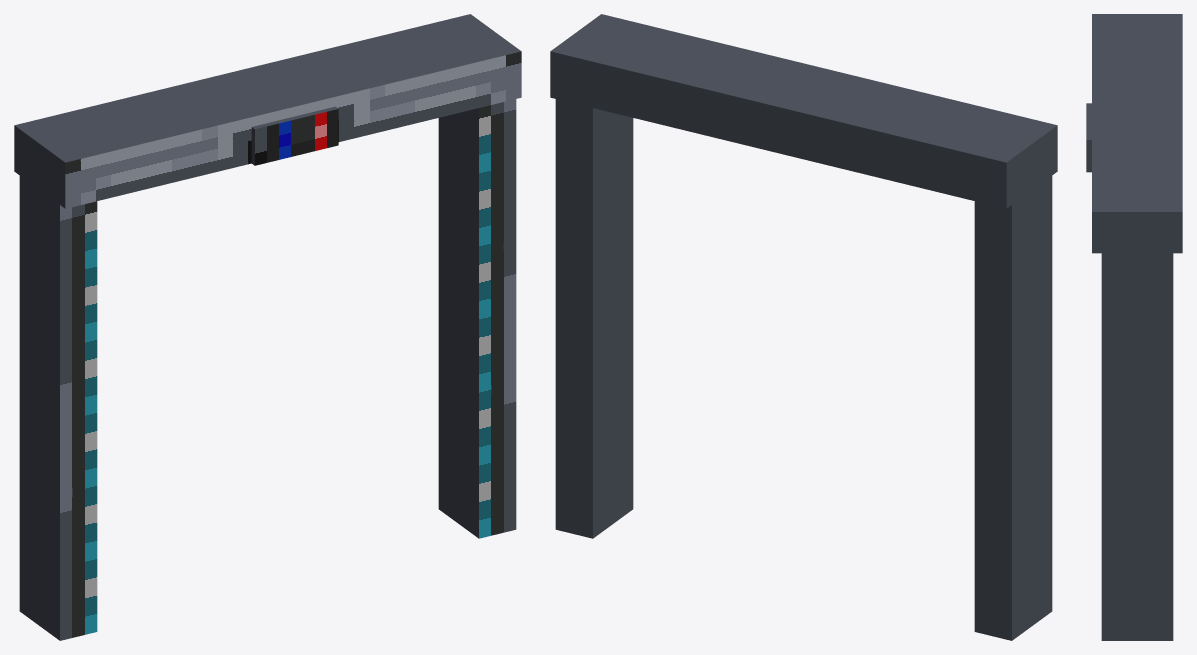
Rendered from weapon_scanner_gate.glb.
3 renders of one model, left to right at view 1: azimuth 30°, elevation 25°; view 2: azimuth 150°, elevation 25°; view 3: azimuth 270°, elevation 25°, orthographic. The views are drawn at different scales.
Visible parts, largest first — view 1: Scanner_Arch, Service_Hatch; view 2: Scanner_Arch; view 3: Scanner_Arch, Service_Hatch.
Part boxes in pixels (<box>): Scanner_Arch: <box>14,14,521,640</box>; Service_Hatch: <box>251,106,338,165</box>; Scanner_Arch: <box>550,14,1057,640</box>; Scanner_Arch: <box>1092,14,1182,640</box>; Service_Hatch: <box>1086,103,1091,172</box>.
Size of what is drawn, in the model's own units: 1.96 by 1.98 by 0.404.
1 material, 1 textured.
